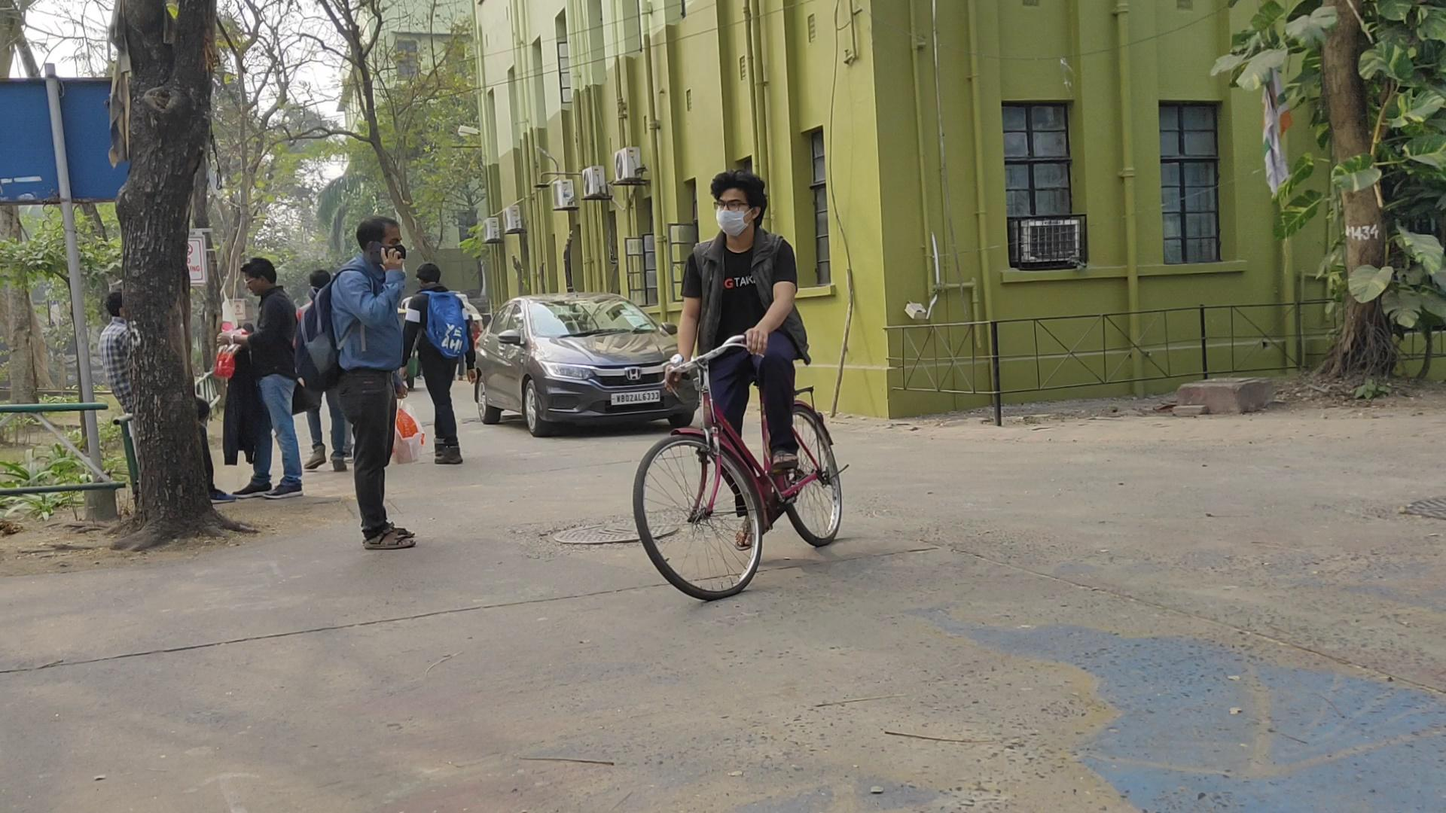bike: (633, 170, 850, 600)
car: (474, 292, 700, 438)
